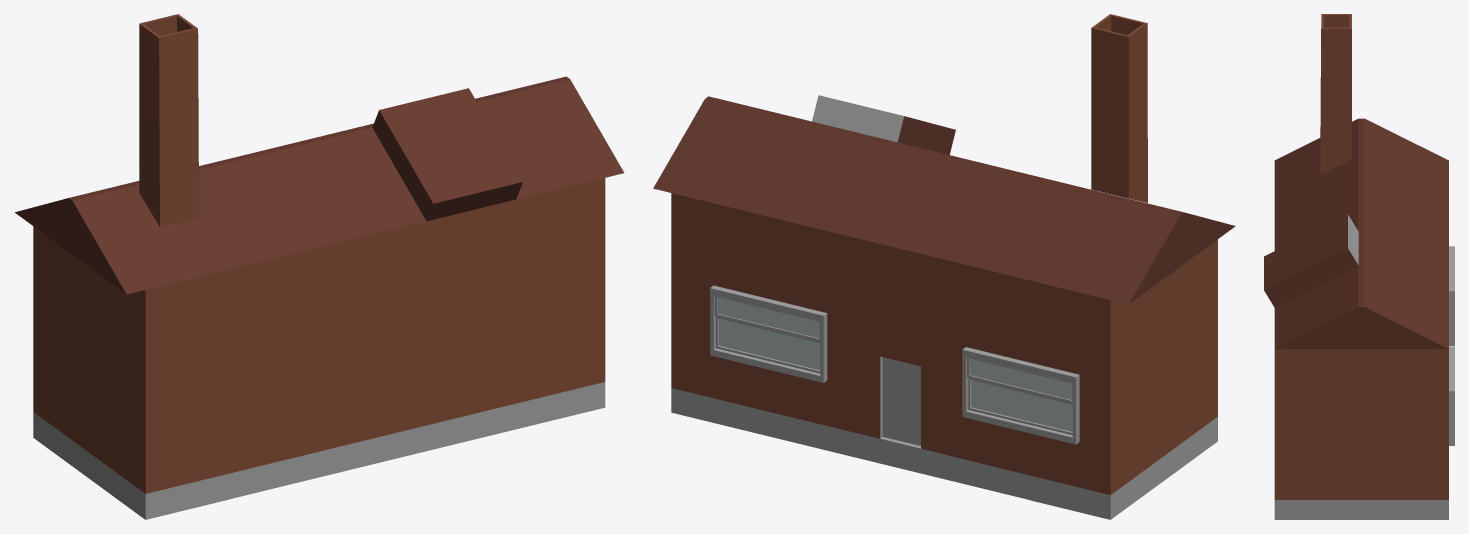
Rendered from House smal version.fbx.
3 renders of one model, left to right at view 1: azimuth 30°, elevation 25°; view 2: azimuth 150°, elevation 25°; view 3: azimuth 270°, elevation 25°, orthographic. The views are drawn at different scales.
Parts seen in each view (by area): view 1: pCube60; view 2: pCube60; view 3: pCube60.
Boxes of the visible parts, x1,y1,x2,y2 form: pCube60: [15, 14, 624, 519]; pCube60: [653, 14, 1235, 519]; pCube60: [1264, 14, 1454, 519].
Bounding box in the file's own units: 2.55 × 2.2 × 1.09.
